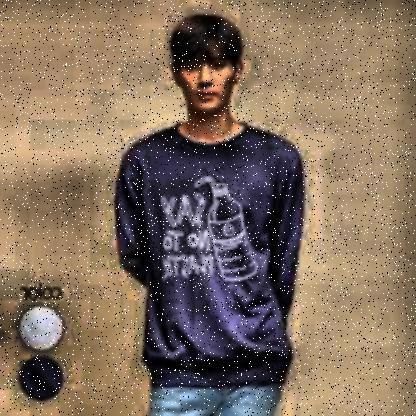sweater: (113, 121, 307, 389)
trousers: (147, 382, 285, 416)
